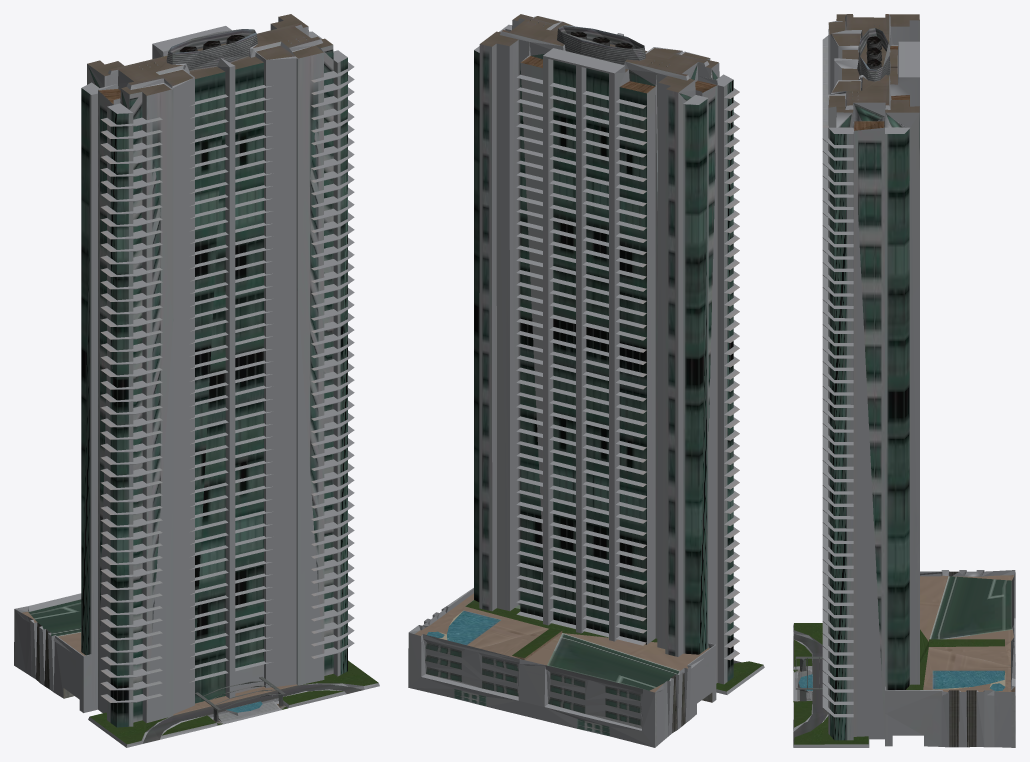
Rendered from slim_residential_lod1.glb.
The picture shows the model from 3 angles, left to right: view 1: azimuth 30°, elevation 25°; view 2: azimuth 150°, elevation 25°; view 3: azimuth 270°, elevation 25°; orthographic projection. The views are drawn at different scales.
Parts seen in each view (by area): view 1: slim_residential; view 2: slim_residential; view 3: slim_residential.
Boxes of the visible parts, box(x1,y1,x2,y2) form: slim_residential: box(14, 14, 379, 747); slim_residential: box(408, 14, 764, 747); slim_residential: box(793, 14, 1015, 747).
Bounding box in the file's own units: 66.66 × 162 × 51.3.
Materials: 1 (1 with a texture image).
